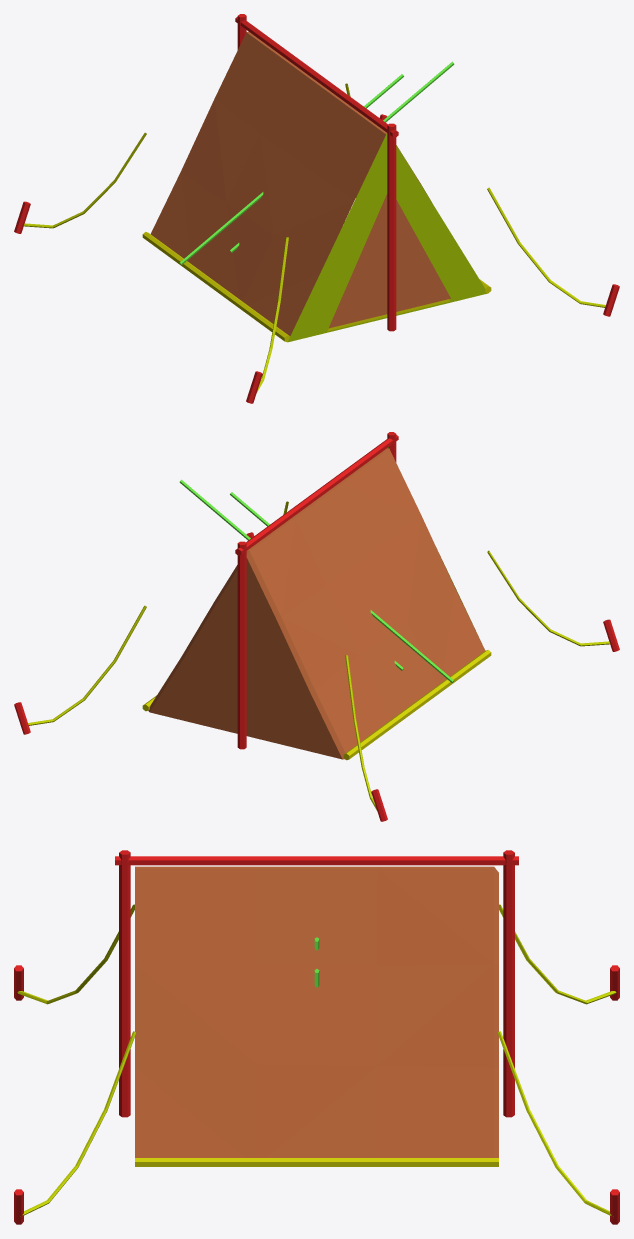
Rendered from tent.glb.
3 renders of one model, top to bottom at view 1: azimuth 30°, elevation 25°; view 2: azimuth 150°, elevation 25°; view 3: azimuth 270°, elevation 25°, orthographic. The views are drawn at different scales.
Visible parts, largest first — view 1: Tent_Body, Tent_Front, Tent_Flap, Tent_Pole_Front, Tent_Pole_Ridge, Tent_Trim_L, Tent_Fold_L, Tent_Rope_2, Tent_Rope_1, Tent_Rope_3; view 2: Tent_Body, Tent_Pole_Back, Tent_Pole_Ridge, Tent_Trim_L, Tent_Fold_L, Tent_Rope_4, Tent_Rope_3, Tent_Rope_1; view 3: Tent_Body, Tent_Pole_Ridge, Tent_Trim_R, Tent_Pole_Back, Tent_Pole_Front, Tent_Rope_2, Tent_Rope_4, Tent_Rope_1, Tent_Rope_3.
Part boxes in pixels (bbox=[...]): Tent_Body: bbox=[151, 31, 430, 335]; Tent_Front: bbox=[288, 133, 487, 342]; Tent_Flap: bbox=[328, 194, 450, 328]; Tent_Pole_Front: bbox=[387, 123, 396, 331]; Tent_Pole_Ridge: bbox=[235, 17, 398, 137]; Tent_Trim_L: bbox=[142, 232, 289, 342]; Tent_Fold_L: bbox=[179, 74, 403, 264]; Tent_Rope_2: bbox=[487, 187, 605, 307]; Tent_Rope_1: bbox=[257, 237, 288, 392]; Tent_Rope_3: bbox=[23, 132, 146, 228]; Tent_Body: bbox=[148, 448, 485, 759]; Tent_Pole_Back: bbox=[237, 541, 246, 749]; Tent_Pole_Ridge: bbox=[235, 435, 398, 555]; Tent_Trim_L: bbox=[343, 650, 491, 760]; Tent_Fold_L: bbox=[230, 492, 454, 682]; Tent_Rope_4: bbox=[28, 605, 146, 725]; Tent_Rope_3: bbox=[345, 655, 376, 810]; Tent_Rope_1: bbox=[487, 550, 610, 646]; Tent_Body: bbox=[135, 866, 498, 1157]; Tent_Pole_Ridge: bbox=[115, 856, 518, 865]; Tent_Trim_R: bbox=[135, 1158, 498, 1166]; Tent_Pole_Back: bbox=[503, 850, 514, 1117]; Tent_Pole_Front: bbox=[119, 850, 130, 1117]; Tent_Rope_2: bbox=[20, 1031, 136, 1216]; Tent_Rope_4: bbox=[497, 1031, 613, 1216]; Tent_Rope_1: bbox=[17, 904, 134, 1004]; Tent_Rope_3: bbox=[499, 904, 616, 1004].
Size of the model in its own units: 3.33 by 1.75 by 3.66.
